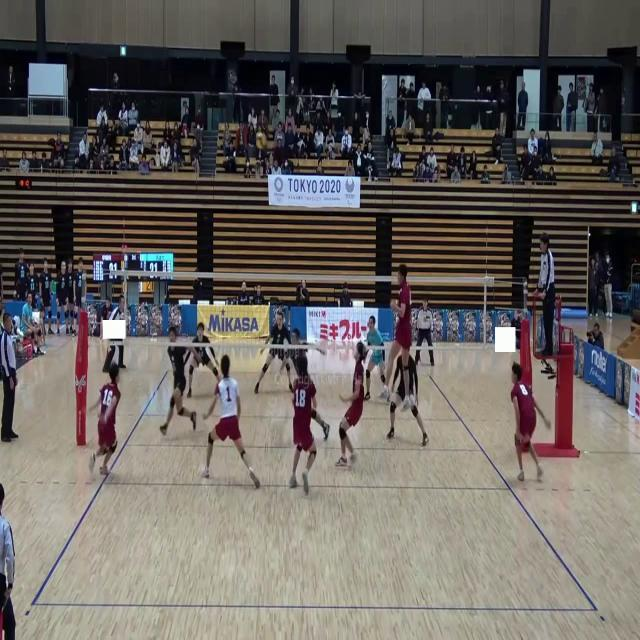volleyball: (255, 132, 267, 149)
